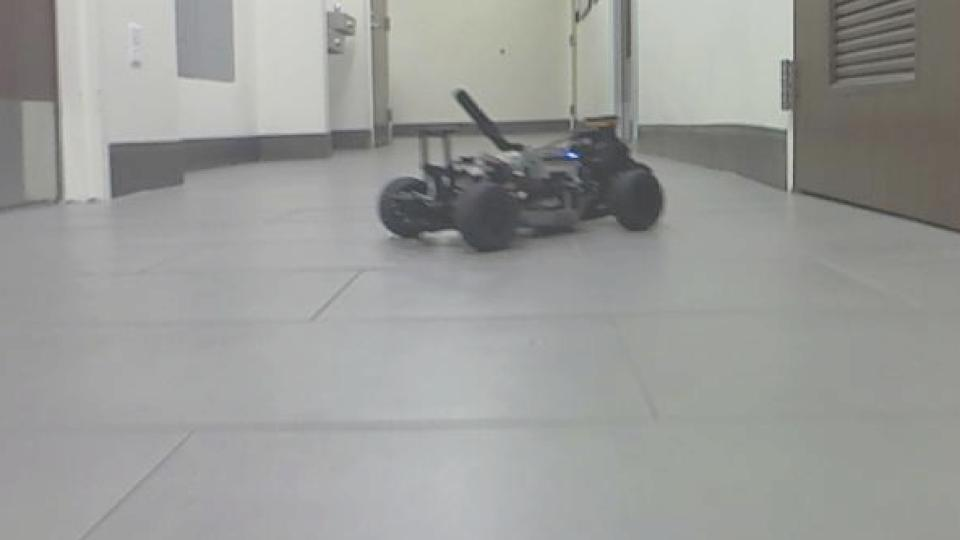car: (376, 84, 670, 254)
